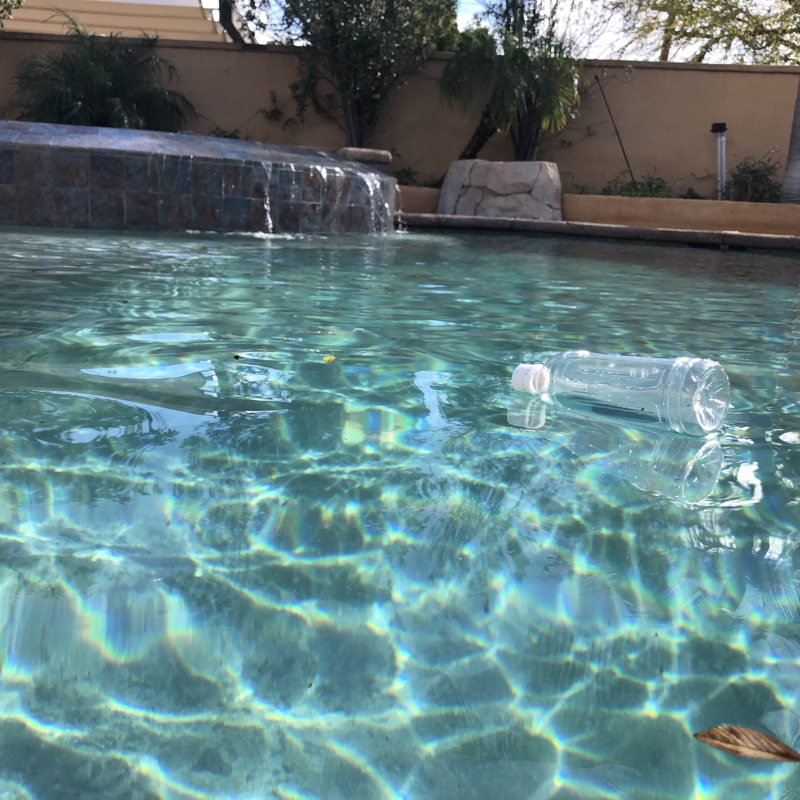Plastic Bottle: (505, 345, 734, 438)
